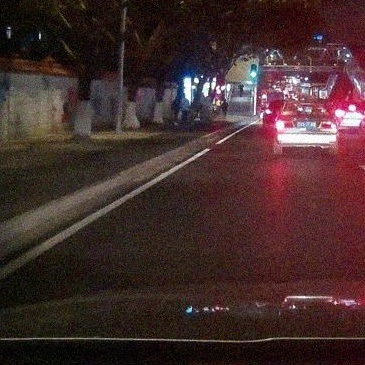L_light: (275, 122, 293, 129)
R_light: (320, 121, 336, 129)
T_light: (300, 105, 309, 108)
night-left: (273, 103, 338, 154)
